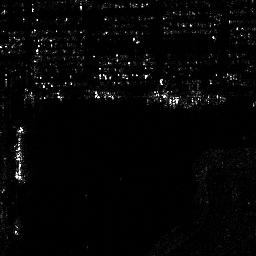ship: (13, 126, 27, 183)
